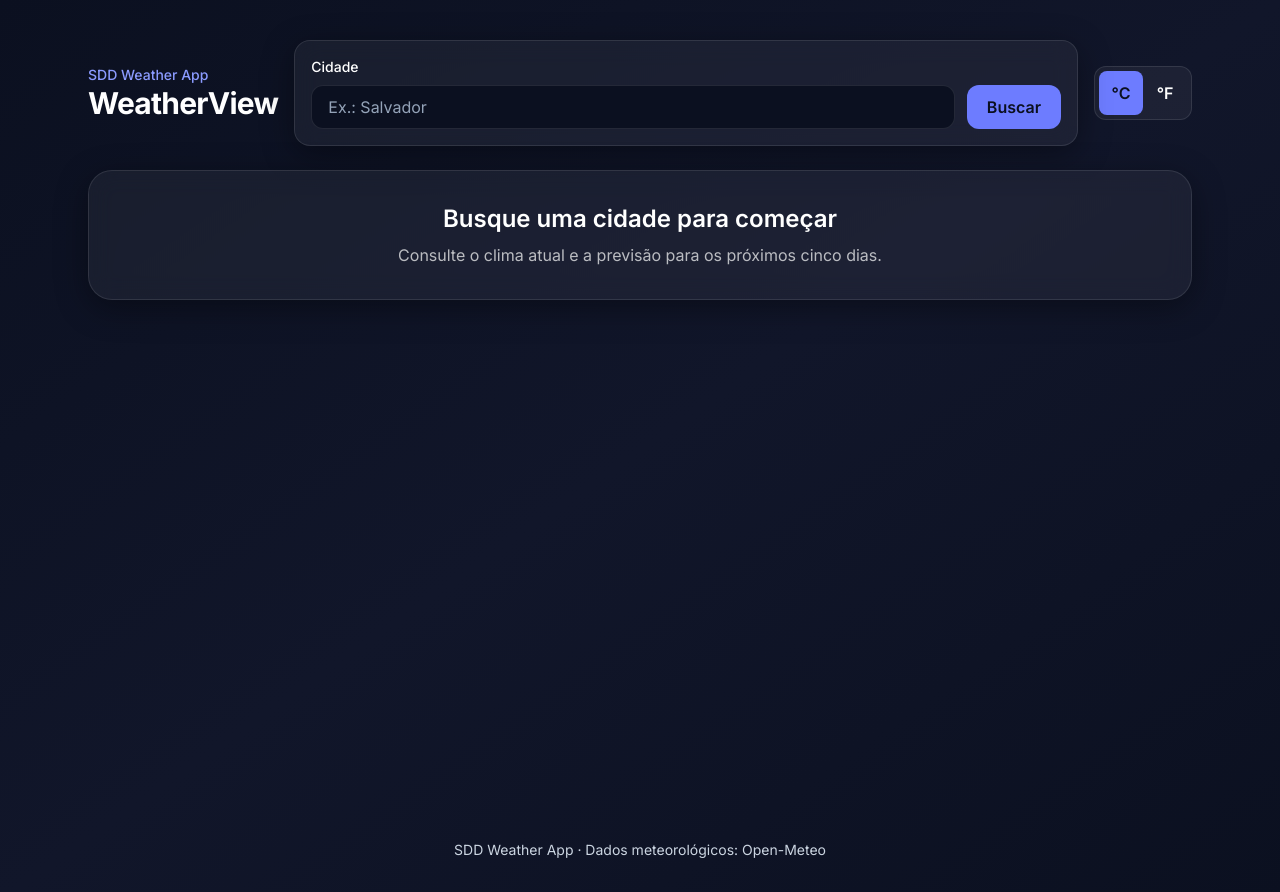
Scenario: App › busca por Enter, exibe vazio e recupera com os dados retornados pelo serviço
In the search field labelled "Cidade": (633, 107) [311,85,955,129], type "Inexistente"
Then press Enter
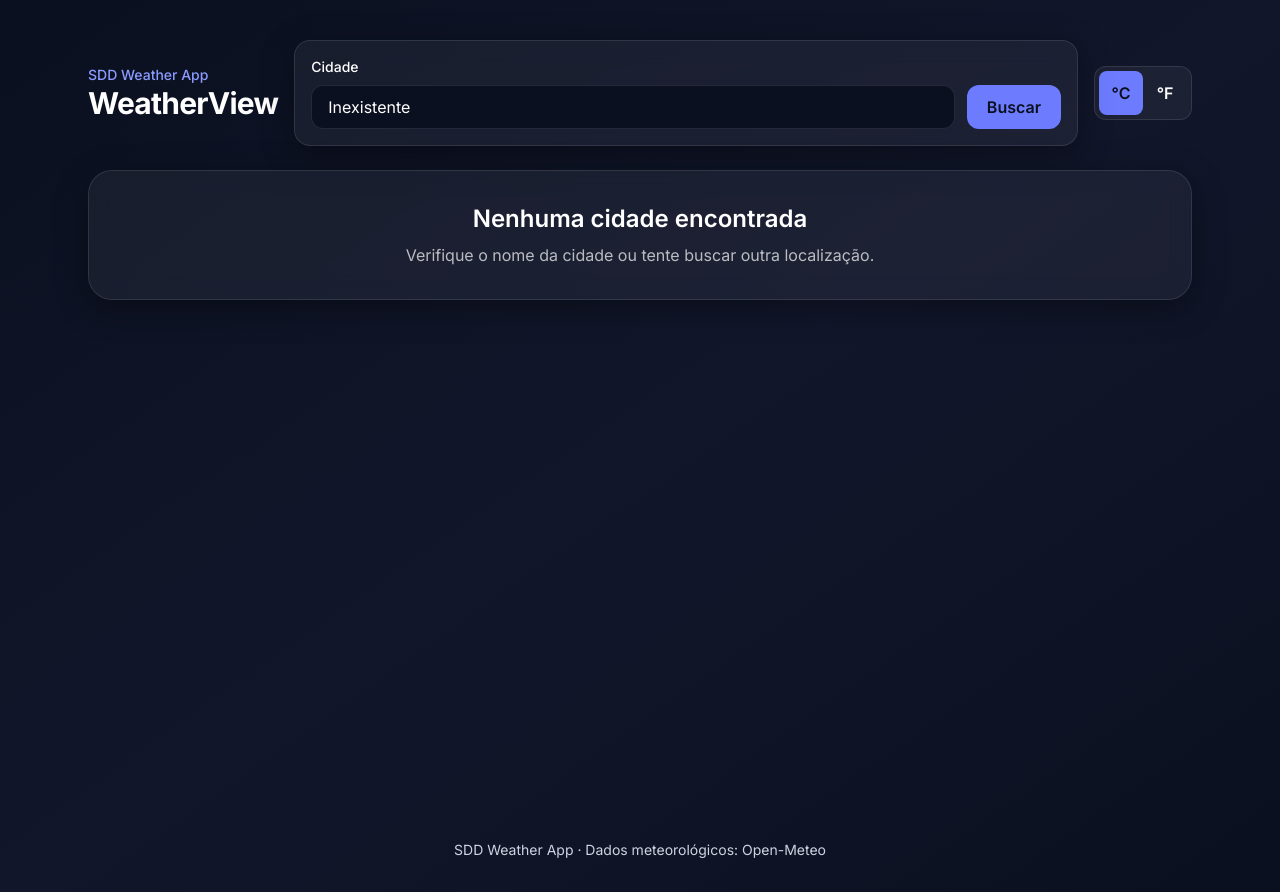
Expected: the heading "Nenhuma cidade encontrada" is shown, [473,204,807,233]
Replace the text in the search field labelled "Cidade" with "  Recife  ": (633, 107) [311,85,955,129]
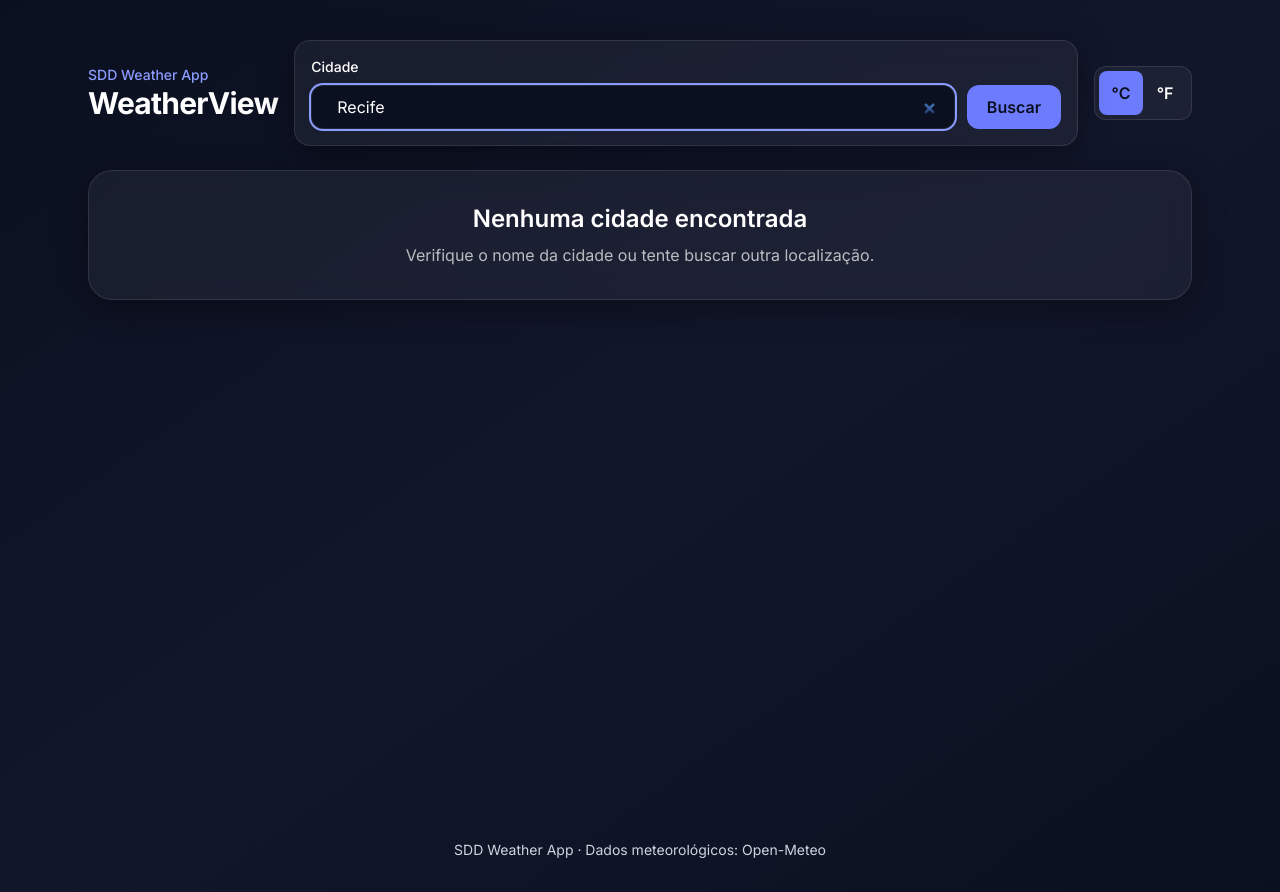
Click the button "Buscar": (1014, 107) [967,85,1061,129]
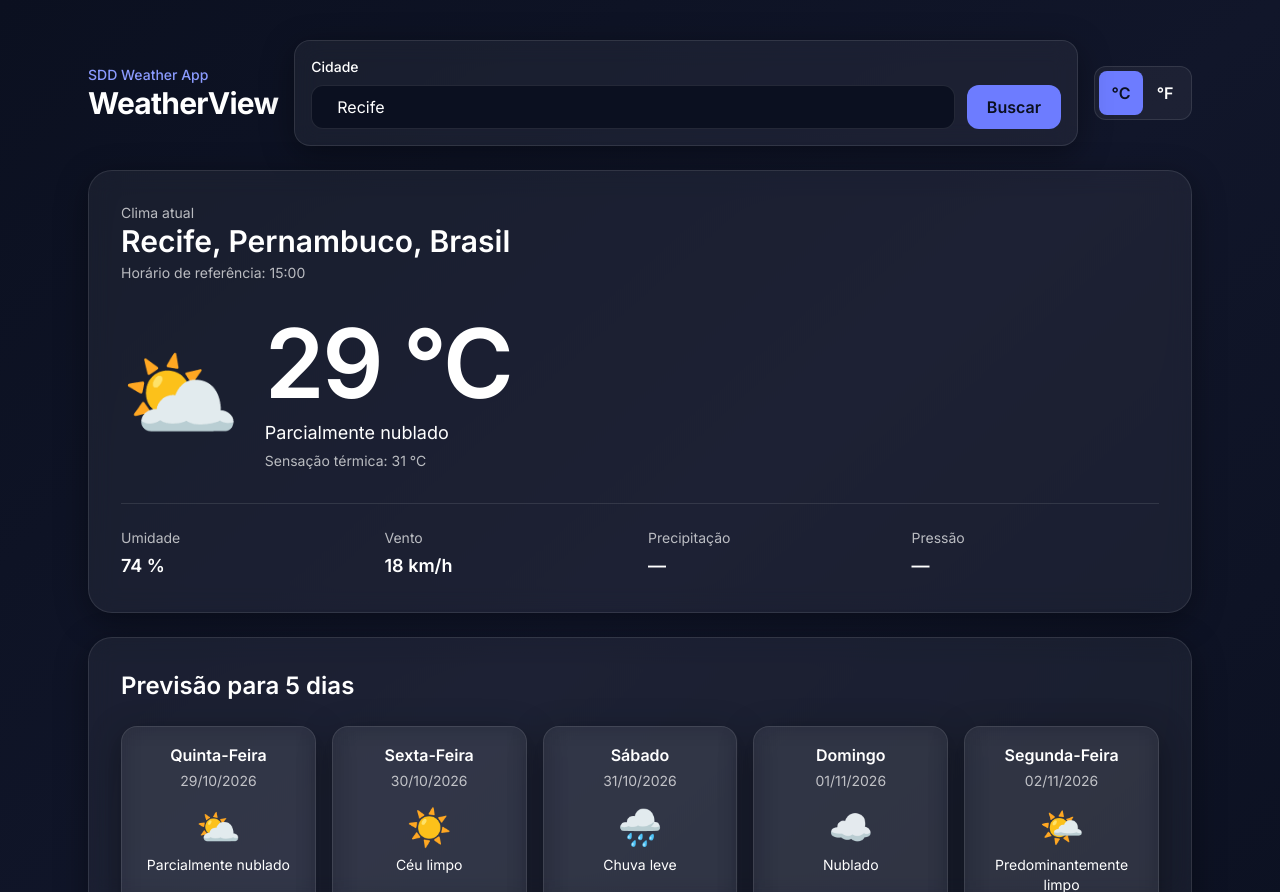
Expected: the element "Recife, Pernambuco, Brasil" is shown, [88,170,1192,613]
